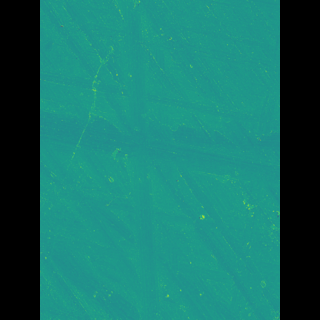Loch: (69, 113, 250, 187), (128, 0, 162, 320)
